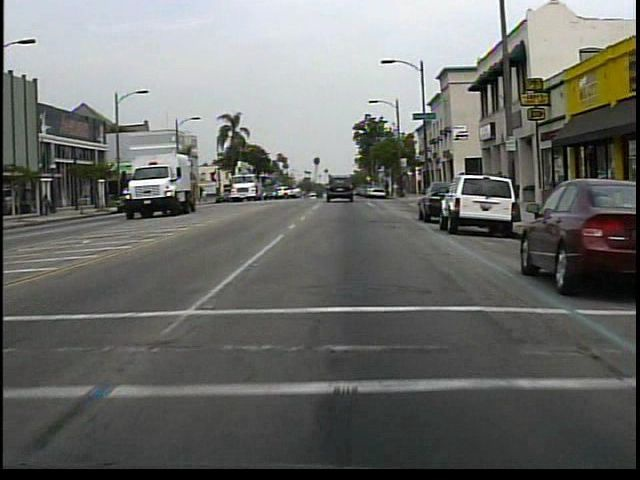person: (43, 192, 53, 218)
